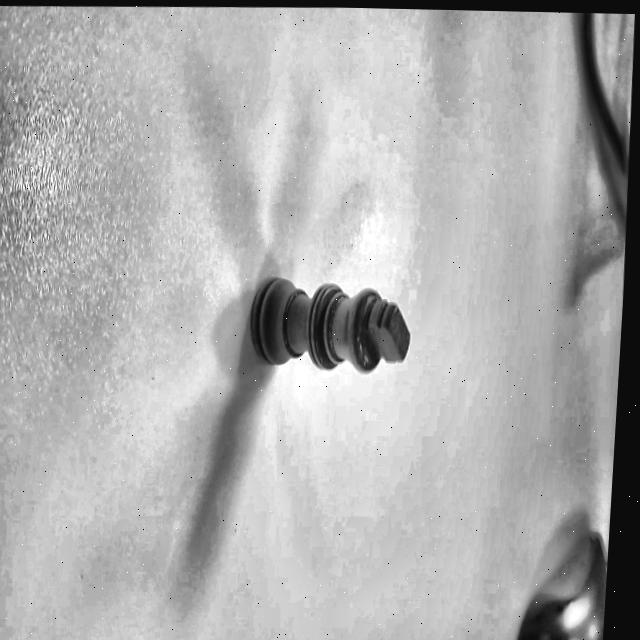black-king: (239, 255, 423, 388)
